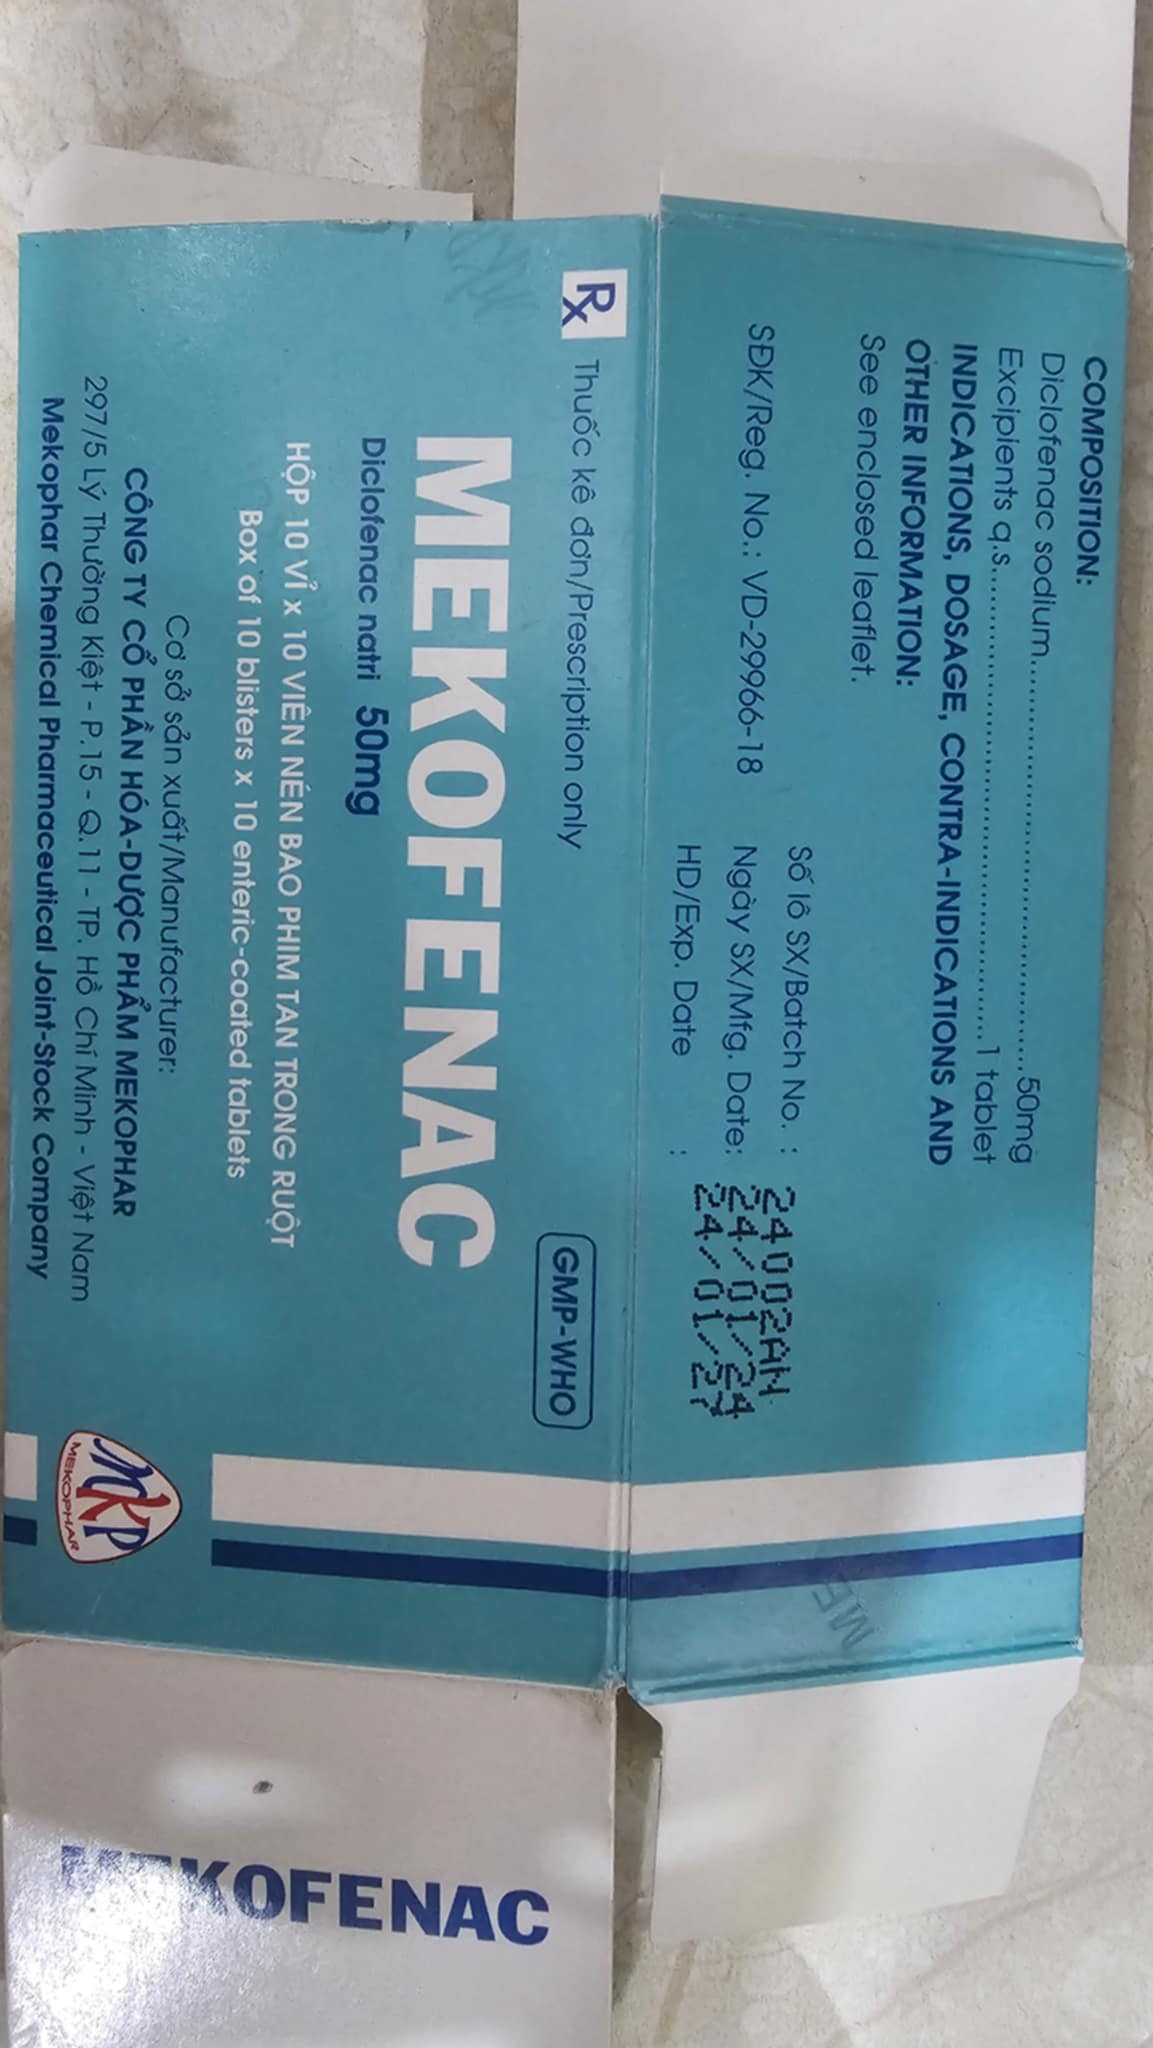Mekocefaclor: (403, 417, 521, 1290)
